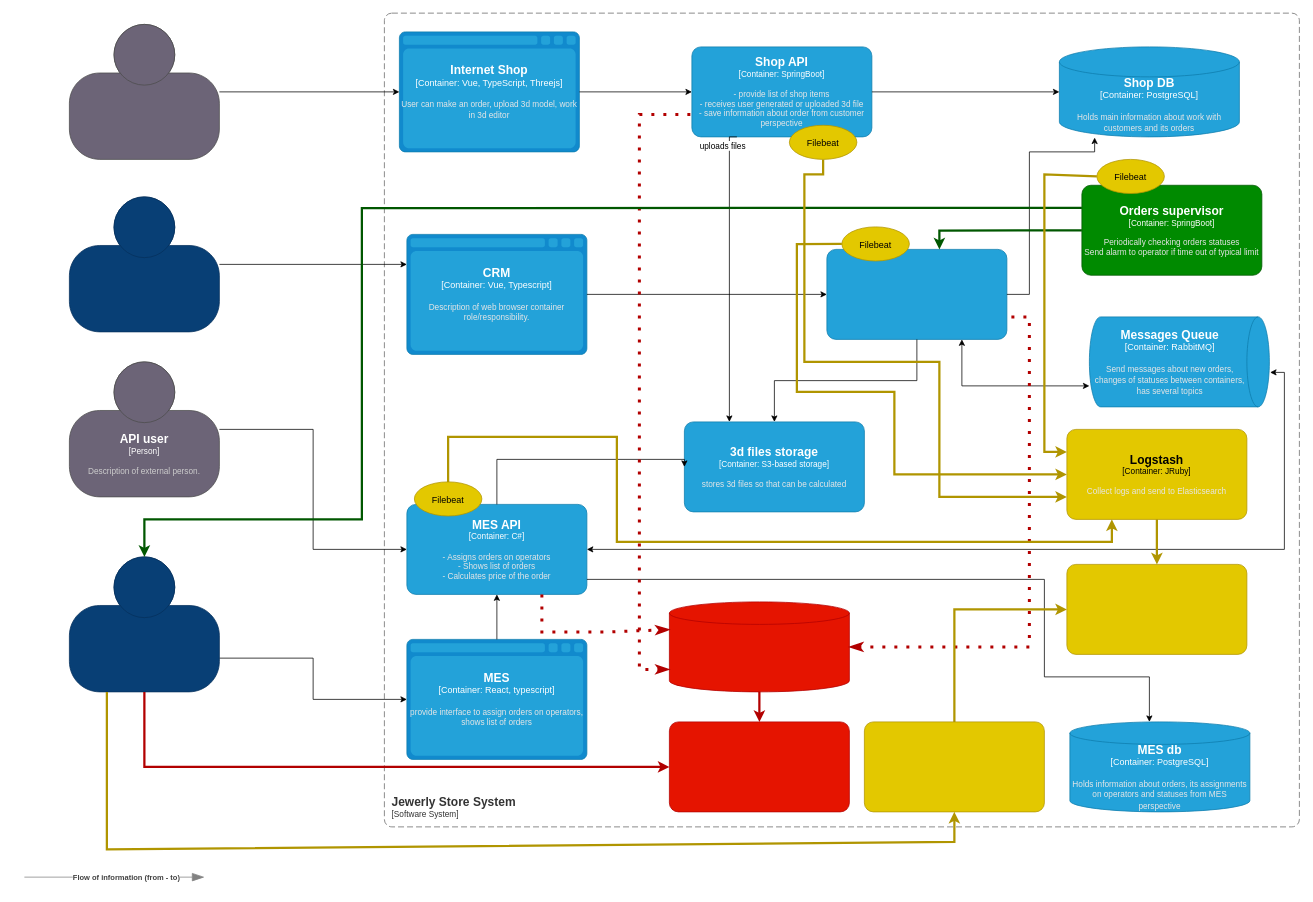
Some shapes in this 1313 by 902 pixel diagram are drawn without their labels. The shapes that lost their labels are listed below. From the top down, each one's centre as x and y in pixels, then its label:
At point (144, 91): "Customer [Person] Description of external person.".
At point (144, 264): "Seller [Person] Operates with order, confirms manufacturing for the user".
At point (916, 294): "CRM API [Container: SpringBoot] Description of container role/responsibility.".
At point (144, 624): "Operator [Person] Takes order in work, manufactures jewerly".
At point (1156, 609): "Elasticsearch [Container: Java] Store logs".
At point (759, 646): "Jaeger db [Container: Jaeger] Holds information about API calls traces".
At point (759, 766): "Jaeger UI [Container: JS] UI for Jaeger".
At point (954, 766): "Kibana [Container: TypeScript] Elasticsearch UI".
